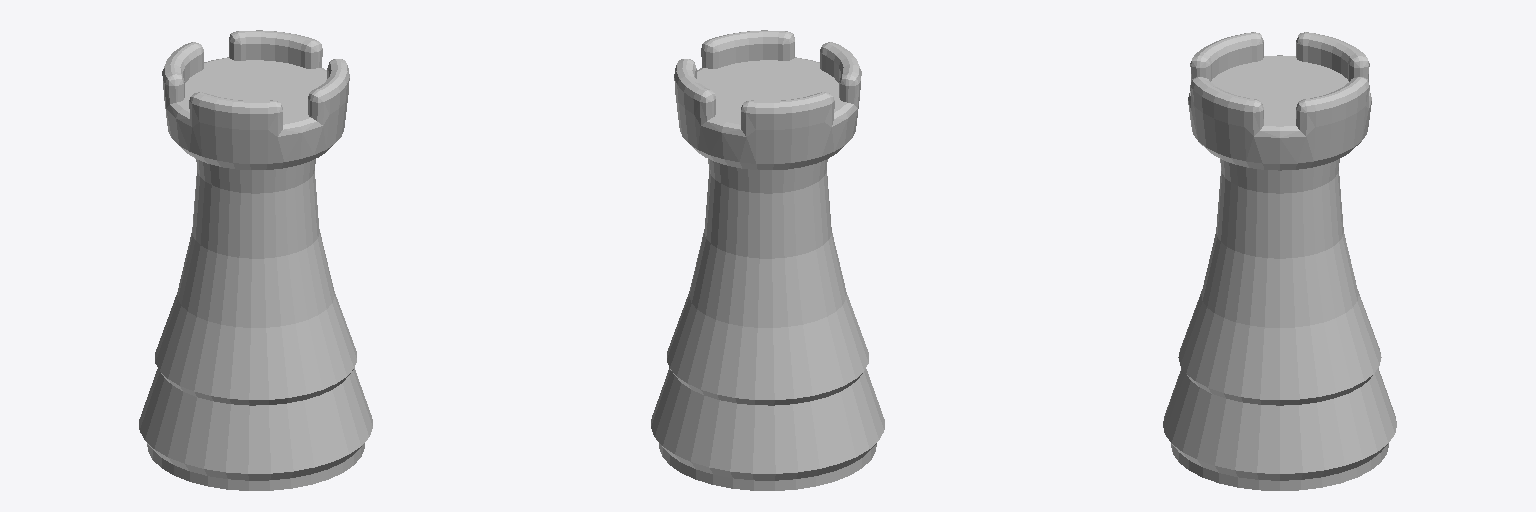
The model's file is chess.obj.
3 renders of one model, left to right at view 1: azimuth 30°, elevation 25°; view 2: azimuth 150°, elevation 25°; view 3: azimuth 270°, elevation 25°, orthographic.
Visible parts, largest first — view 1: Cylinder; view 2: Cylinder; view 3: Cylinder.
Part boxes in pixels (x1,y1,x2,y2): Cylinder: (139,30,372,490); Cylinder: (651,30,884,490); Cylinder: (1163,32,1396,490).
Size of the model in its own units: 0.45 by 0.8 by 0.45.